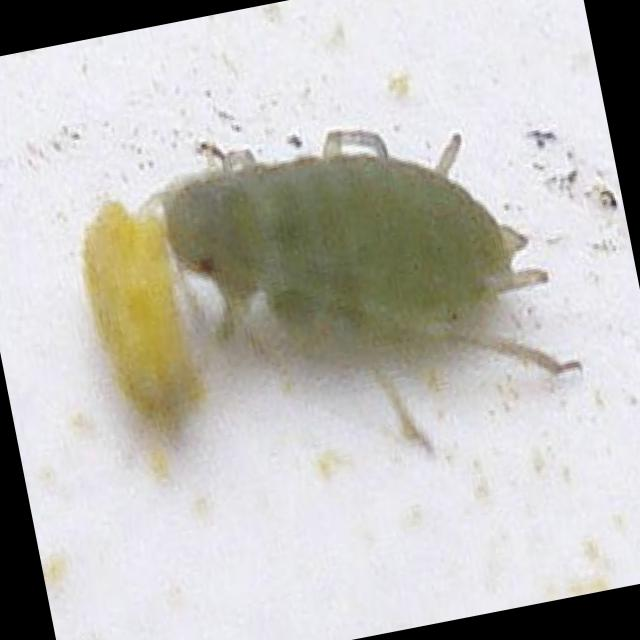Aphids: (140, 32, 601, 530)
